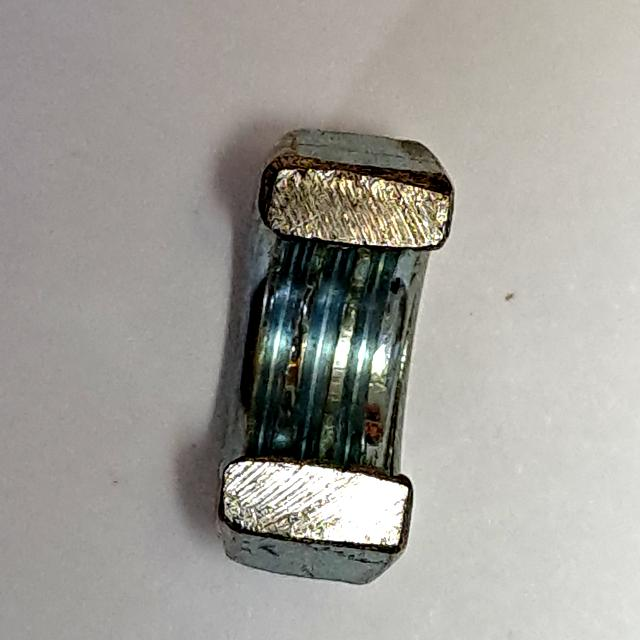Side-Fracture: (199, 119, 468, 595)
